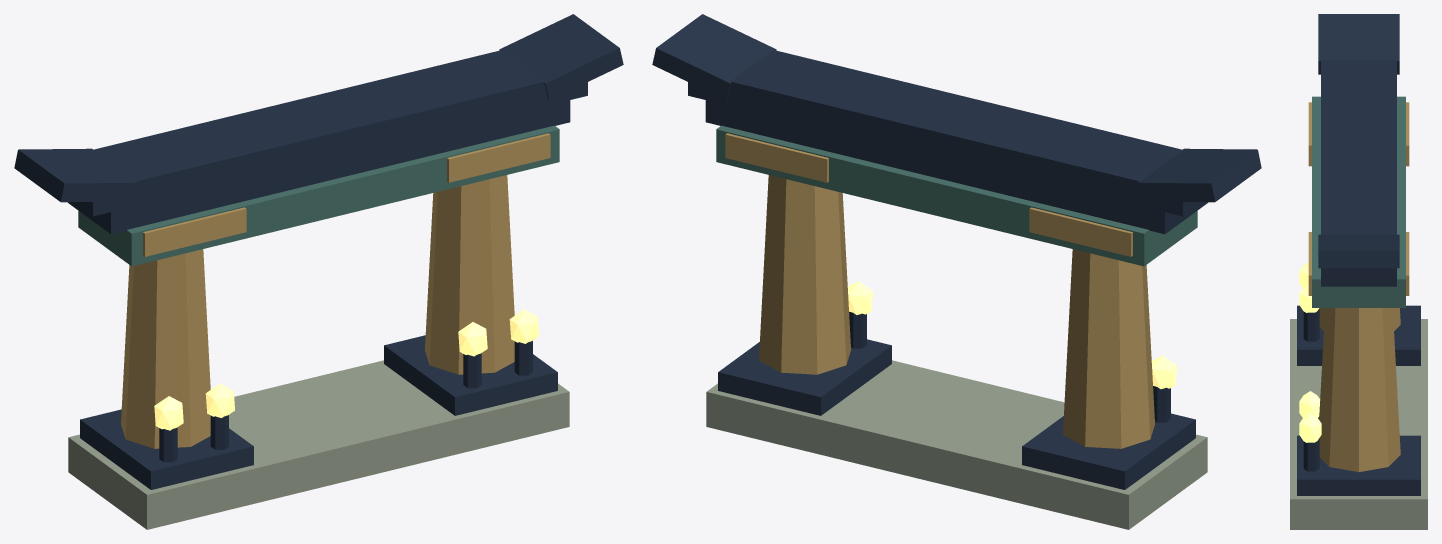
File: gate_japan.glb
3 views of the same model, side by side, from view 1: azimuth 30°, elevation 25°; view 2: azimuth 150°, elevation 25°; view 3: azimuth 270°, elevation 25° (orthographic). The views are drawn at different scales.
Parts seen in each view (by area): view 1: Landmark stone bed, Torii cross beam.001, Great pier, Great pier.001, Gate lintel, Torii cross beam, Wall footing.001, Wall footing, Rising eave.001, Rising eave, Pier cornice.001, Pier cornice (+4 smaller); view 2: Landmark stone bed, Torii cross beam.001, Great pier, Great pier.001, Gate lintel, Torii cross beam, Wall footing, Wall footing.001, Rising eave.001, Rising eave, Pier cornice.001, Pier cornice (+2 smaller); view 3: Torii cross beam.001, Great pier.001, Landmark stone bed, Gate lintel, Wall footing.001, Rising eave, Rising eave.001, Wall footing, Torii cross beam, Oil lamp.003, Pier cornice, Pier cornice.001 (+6 smaller).
Part boxes in pixels (left/top/right/bottom): Landmark stone bed: left=68, top=360, right=569, bottom=529; Torii cross beam.001: left=73, top=50, right=587, bottom=216; Great pier: left=121, top=249, right=210, bottom=448; Great pier.001: left=425, top=175, right=514, bottom=374; Gate lintel: left=78, top=125, right=559, bottom=266; Torii cross beam: left=68, top=100, right=570, bottom=234; Wall footing.001: left=384, top=335, right=557, bottom=415; Wall footing: left=80, top=409, right=253, bottom=489; Rising eave.001: left=499, top=14, right=623, bottom=100; Rising eave: left=14, top=148, right=138, bottom=202; Pier cornice.001: left=447, top=133, right=550, bottom=182; Pier cornice: left=143, top=207, right=246, bottom=256; Landmark stone bed: left=706, top=360, right=1207, bottom=529; Torii cross beam.001: left=688, top=50, right=1202, bottom=216; Great pier: left=1063, top=249, right=1154, bottom=448; Great pier.001: left=759, top=175, right=850, bottom=374; Gate lintel: left=716, top=125, right=1197, bottom=266; Torii cross beam: left=705, top=98, right=1207, bottom=234; Wall footing: left=1022, top=413, right=1195, bottom=489; Wall footing.001: left=718, top=339, right=891, bottom=415; Rising eave.001: left=652, top=14, right=776, bottom=100; Rising eave: left=1137, top=148, right=1261, bottom=202; Pier cornice.001: left=725, top=133, right=828, bottom=182; Pier cornice: left=1029, top=207, right=1132, bottom=256; Torii cross beam.001: left=1321, top=60, right=1396, bottom=274; Great pier.001: left=1319, top=308, right=1400, bottom=471; Landmark stone bed: left=1290, top=319, right=1427, bottom=529; Gate lintel: left=1312, top=96, right=1405, bottom=307; Wall footing.001: left=1297, top=435, right=1420, bottom=495; Rising eave: left=1318, top=14, right=1399, bottom=74; Rising eave.001: left=1318, top=234, right=1399, bottom=268; Wall footing: left=1297, top=305, right=1420, bottom=365; Torii cross beam: left=1321, top=274, right=1396, bottom=286; Oil lamp.003: left=1299, top=413, right=1321, bottom=442; Pier cornice: left=1308, top=102, right=1409, bottom=166; Pier cornice.001: left=1308, top=232, right=1409, bottom=295.
Bounding box in the file's own units: 5.04 × 3 × 1.22.
